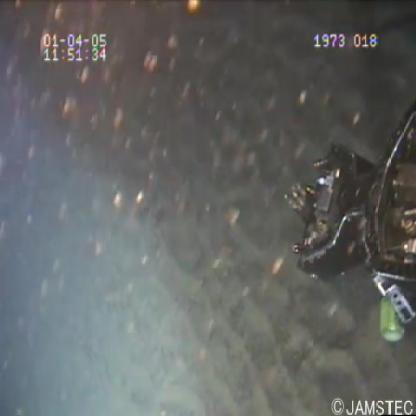Rov: (285, 94, 416, 327)
Rác: (377, 292, 405, 343)
